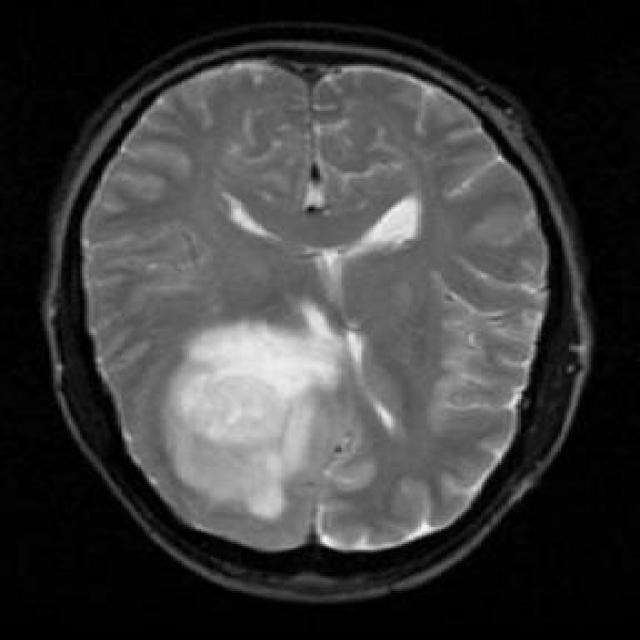Tumor-Cell: (147, 304, 359, 491)
